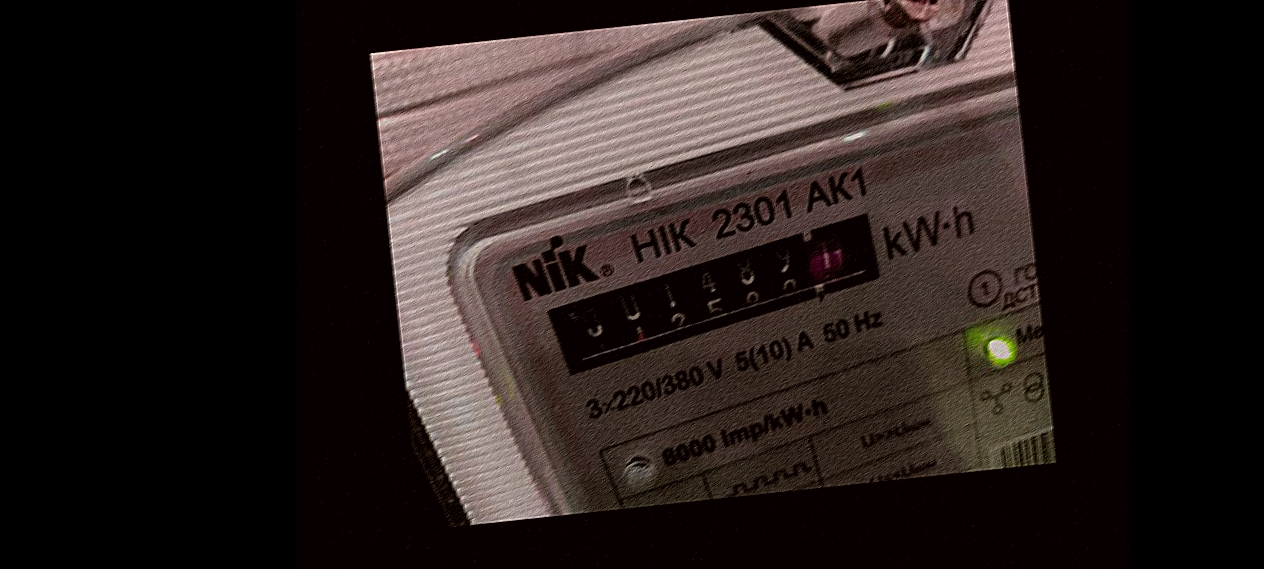0: (614, 284, 644, 323), (578, 302, 606, 340)
1: (813, 232, 836, 272), (658, 276, 681, 309)
4: (694, 262, 720, 295)
8: (733, 250, 758, 288)
9: (771, 240, 795, 274)
screen: (528, 198, 917, 388)
